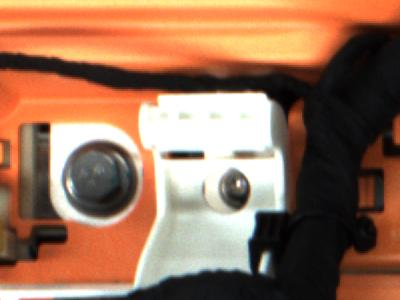nut_b: (56, 136, 142, 218)
